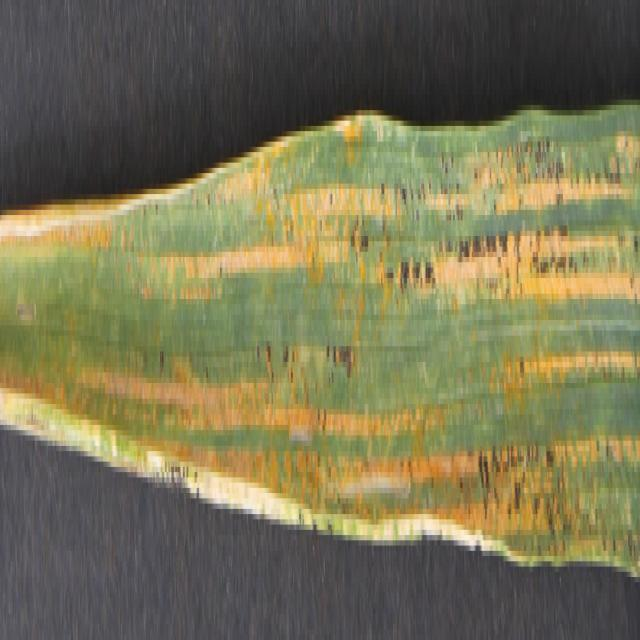leaf rust: (4, 78, 637, 524)
